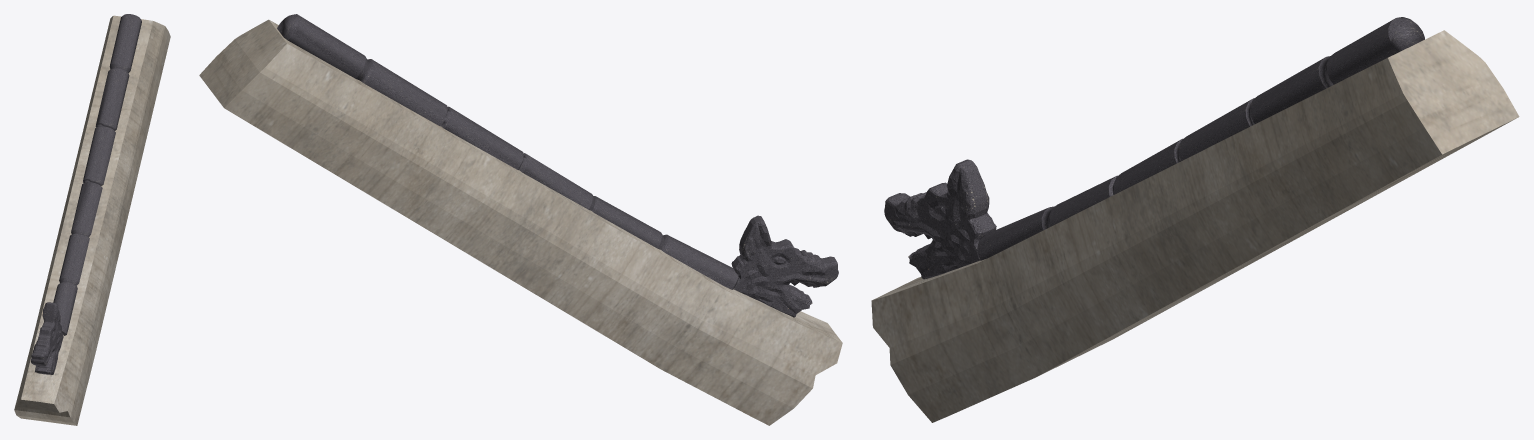
The model's file is SM_R_BeamRoof_4.fbx.
3 views of the same model, side by side, from view 1: azimuth 30°, elevation 25°; view 2: azimuth 150°, elevation 25°; view 3: azimuth 270°, elevation 25° (orthographic). The views are drawn at different scales.
Parts seen in each view (by area): view 1: SM_R_BeamRoof_4; view 2: SM_R_BeamRoof_4; view 3: SM_R_BeamRoof_4.
Boxes of the visible parts, left/top/right/bottom form: SM_R_BeamRoof_4: left=14, top=14, right=170, bottom=425; SM_R_BeamRoof_4: left=199, top=14, right=842, bottom=425; SM_R_BeamRoof_4: left=871, top=17, right=1519, bottom=422.
Bounding box in the file's own units: 301 × 301 × 292.
2 materials, 2 textured.
